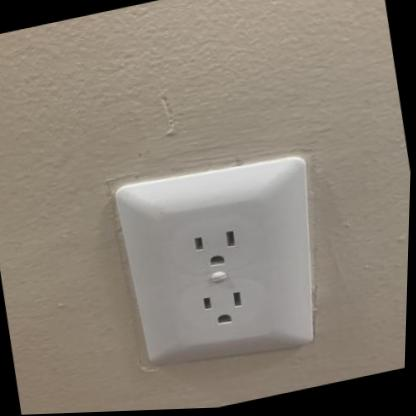OUTLET: (106, 142, 339, 383)
